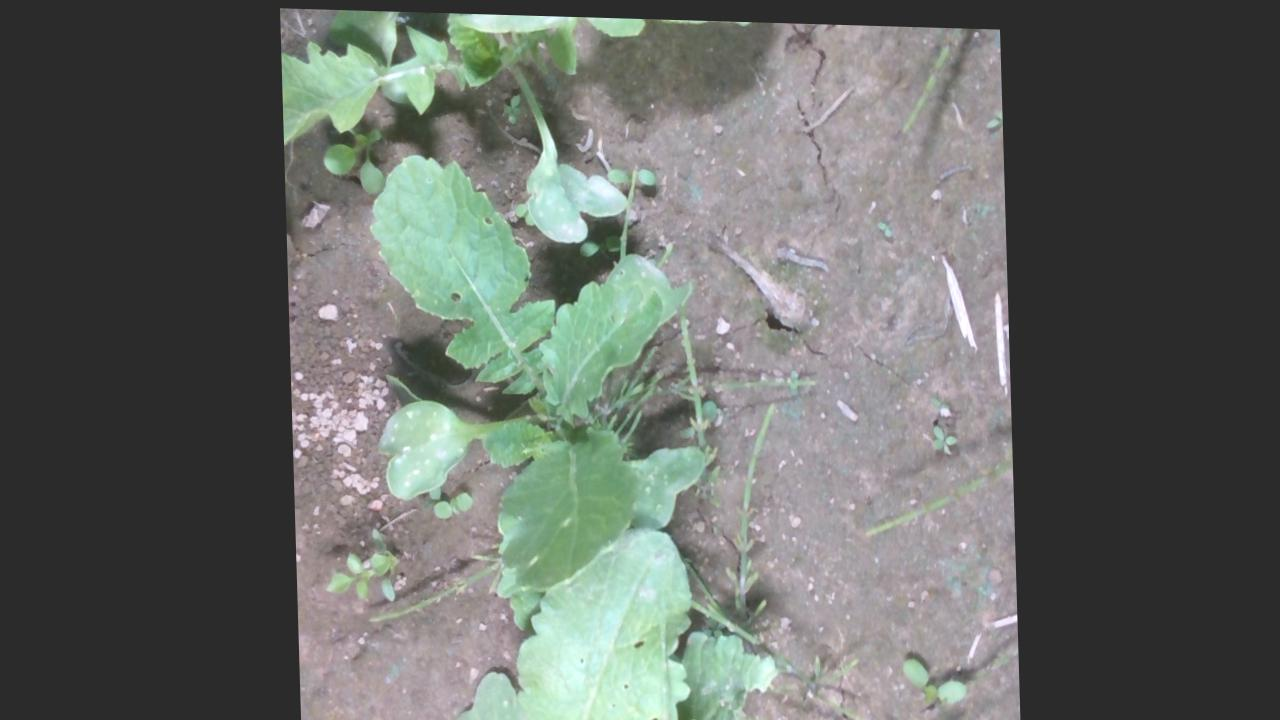weed: (925, 420, 955, 453), (923, 390, 952, 412)
